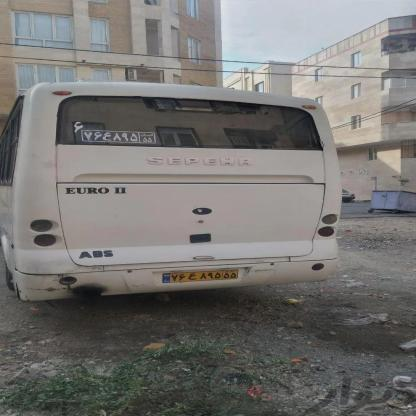Bus: (0, 76, 361, 309)
